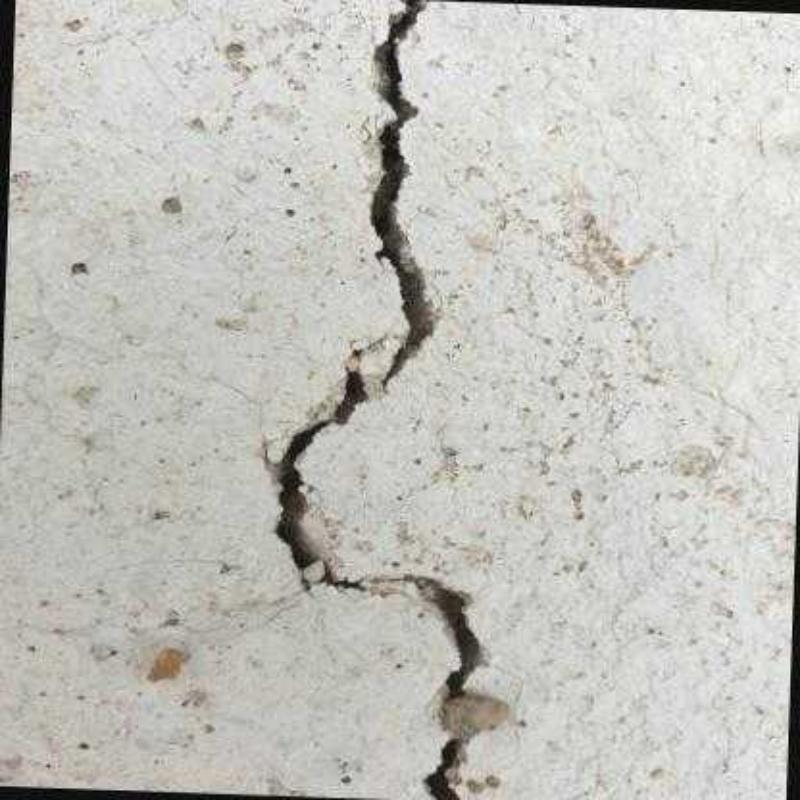pothole: (267, 341, 509, 800), (367, 0, 432, 397)
